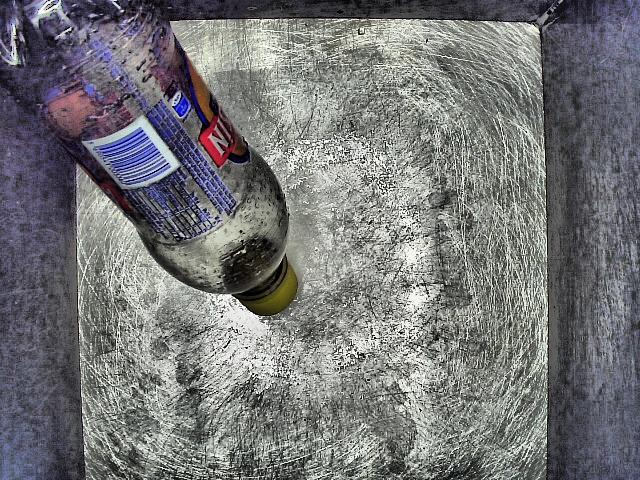Bottles: (2, 5, 339, 334)
